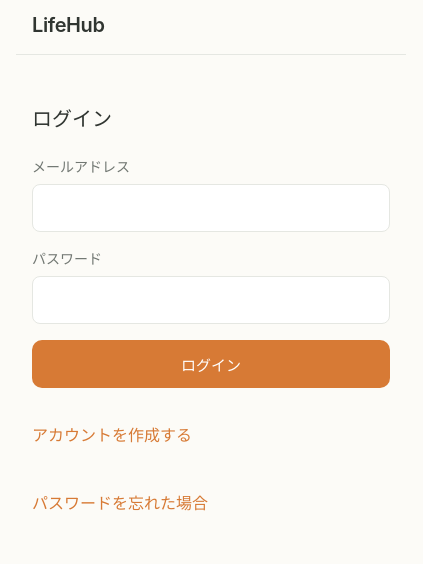
Test: LifeHub M2 shell › shows login failure from the API
The width and height of the screenshot is (423, 564).
Check: the heading "ログイン" is shown, box [32,107,112,131]
Type "me@example.com" into the field labelled "メールアドレス". click: point(211, 208)
box: [32,184,390,232]
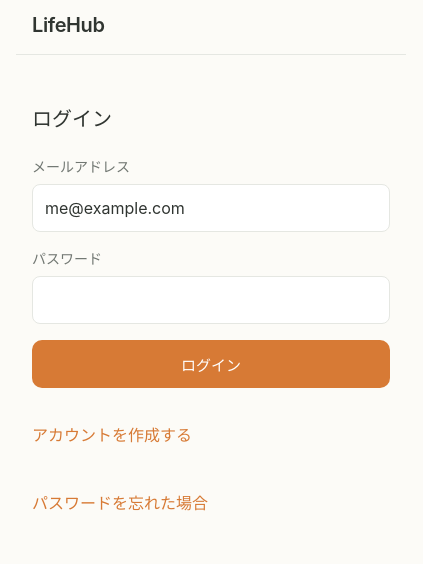
Type "invalid-password" into the password field labelled "パスワード". click: point(211, 300)
box: [32,276,390,324]
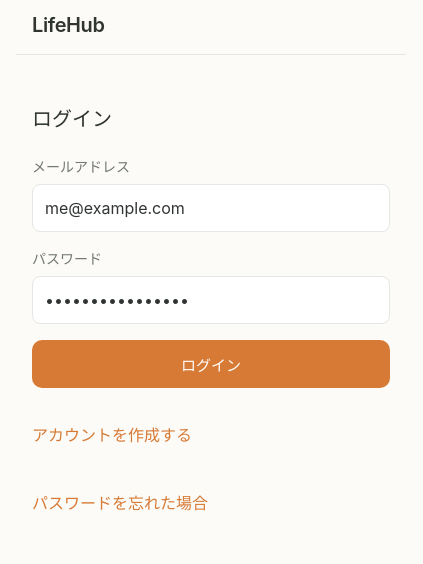
Click the button "ログイン". click: point(211, 364)
box: [32,340,390,388]
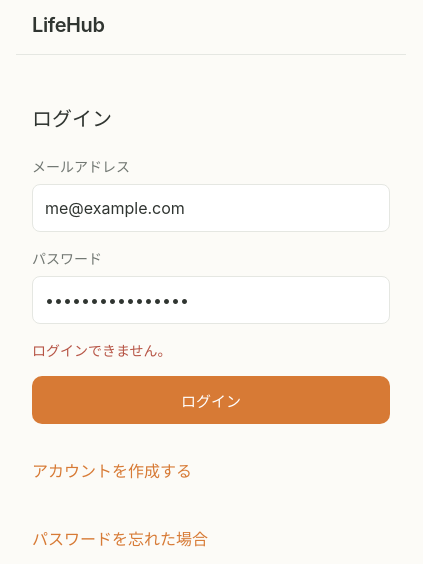
Check: the message reads "ログインできません。", box [32,342,172,359]
